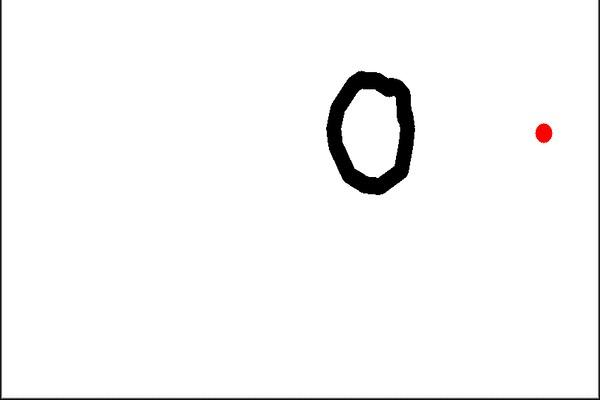O: (315, 61, 422, 202)
